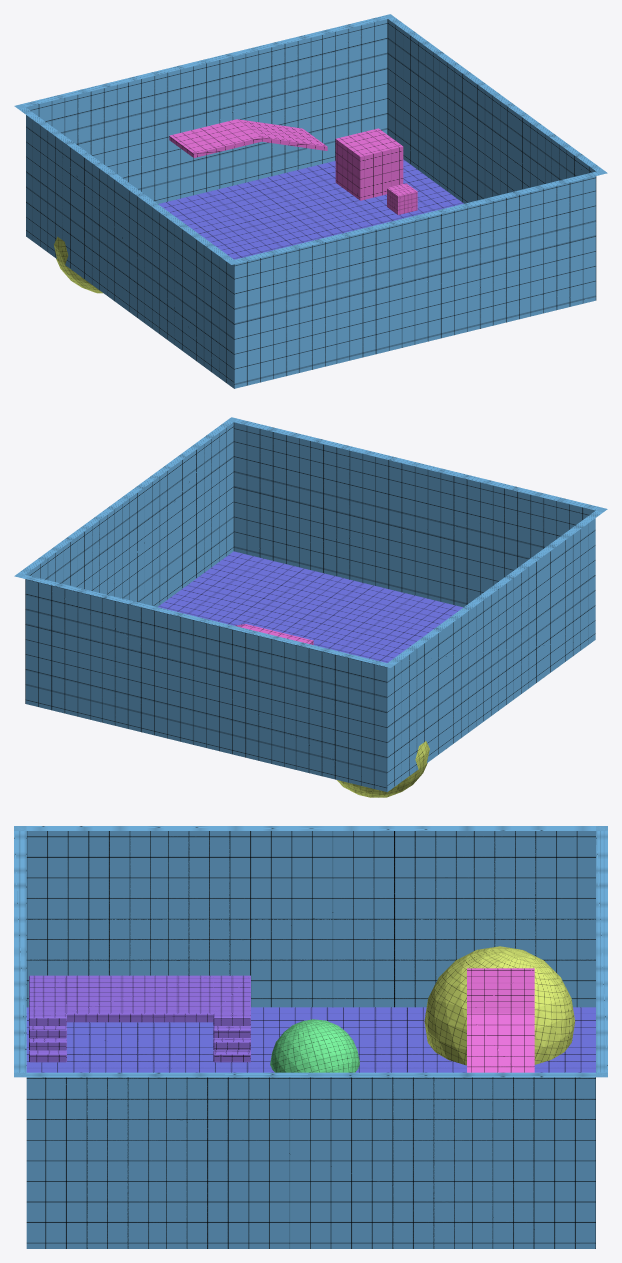
File: TestScene.fbx
The picture shows the model from 3 angles, top to bottom: view 1: azimuth 30°, elevation 25°; view 2: azimuth 150°, elevation 25°; view 3: azimuth 270°, elevation 25°; orthographic projection. The views are drawn at different scales.
Parts seen in each view (by area): view 1: Plane, Cube.001, Icosphere.001; view 2: Plane, Icosphere.001; view 3: Plane, Cube, Icosphere.001, Cube.001, Icosphere.
Part boxes in pixels (left/top/right/bottom): Plane: left=14, top=14, right=607, bottom=388; Cube.001: left=169, top=119, right=417, bottom=214; Icosphere.001: left=54, top=236, right=102, bottom=293; Plane: left=14, top=417, right=607, bottom=792; Icosphere.001: left=337, top=741, right=429, bottom=797; Plane: left=14, top=826, right=607, bottom=1248; Cube: left=29, top=975, right=250, bottom=1062; Icosphere.001: left=424, top=946, right=575, bottom=1065; Cube.001: left=467, top=968, right=534, bottom=1072; Icosphere: left=270, top=1019, right=359, bottom=1072.
Size of the model in its own units: 1320 by 560 by 1320.
6 materials, 6 textured.
